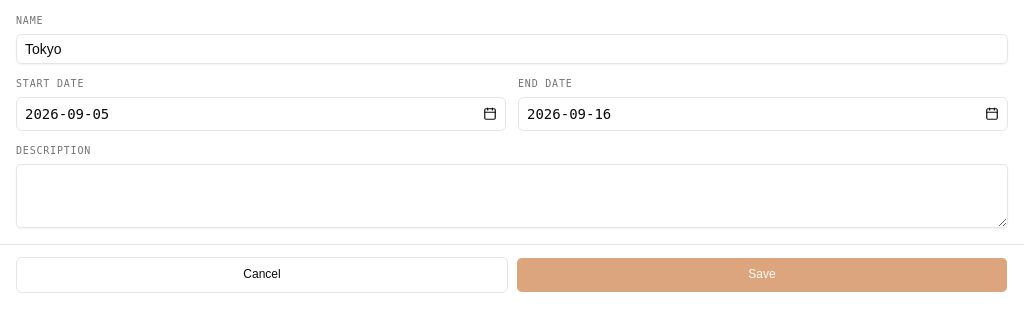
Scenario: TripForm › keeps Save disabled until a field changes
expect the button "Save" is disabled: met, box left=516, top=257, right=1008, bottom=293
Replace the text in the field labelled "Name" with "Tokyo and Kyoto": (512, 49) left=16, top=34, right=1008, bottom=64
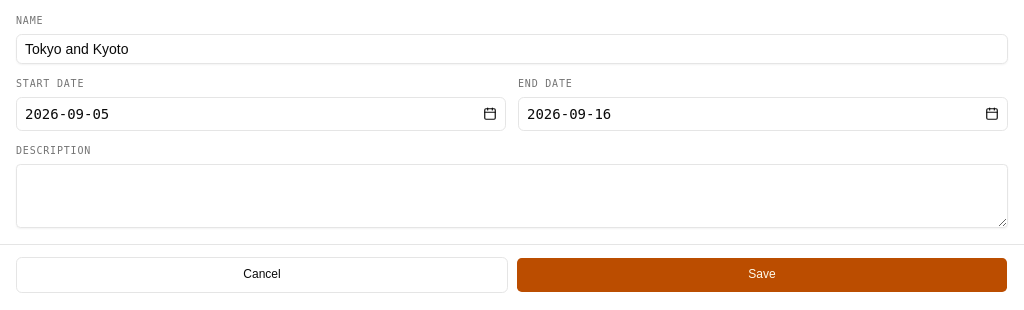
expect the button "Save" is enabled: met, box left=516, top=257, right=1008, bottom=293
Replace the text in the field labelled "Name" with "Tokyo": (512, 49) left=16, top=34, right=1008, bottom=64
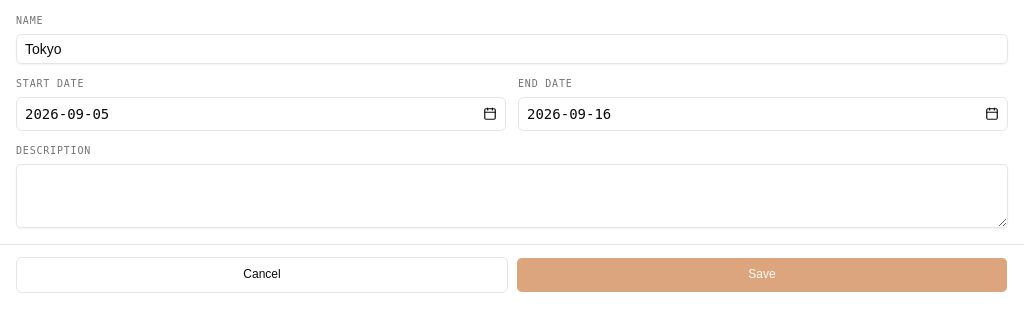
expect the button "Save" is disabled: met, box left=516, top=257, right=1008, bottom=293
